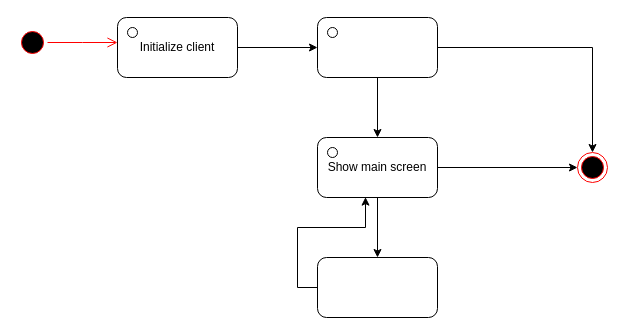
The diagram is 625 pixels wide and 335 high, and some of its shapes have lost their labels. The centre of each missing label's shape, as x and y in pixels:
Show specific chat: the point at 377,287
User logs in: the point at 377,47
